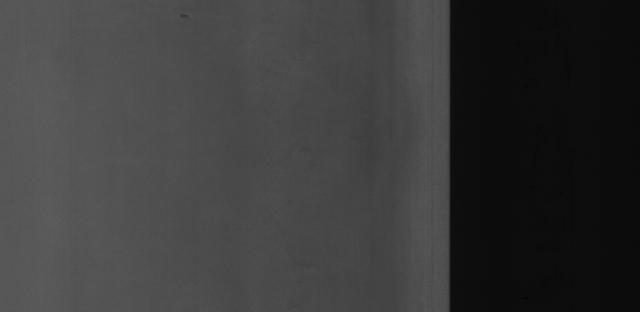inclusion: (174, 8, 197, 23)
